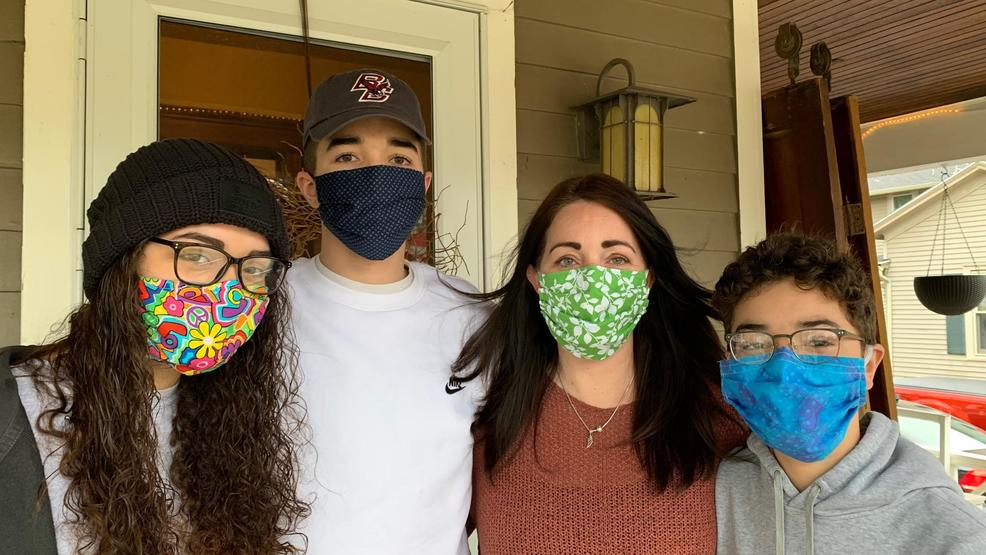with_mask: (142, 224, 265, 359), (733, 322, 853, 443), (317, 137, 419, 240), (547, 241, 634, 346)
